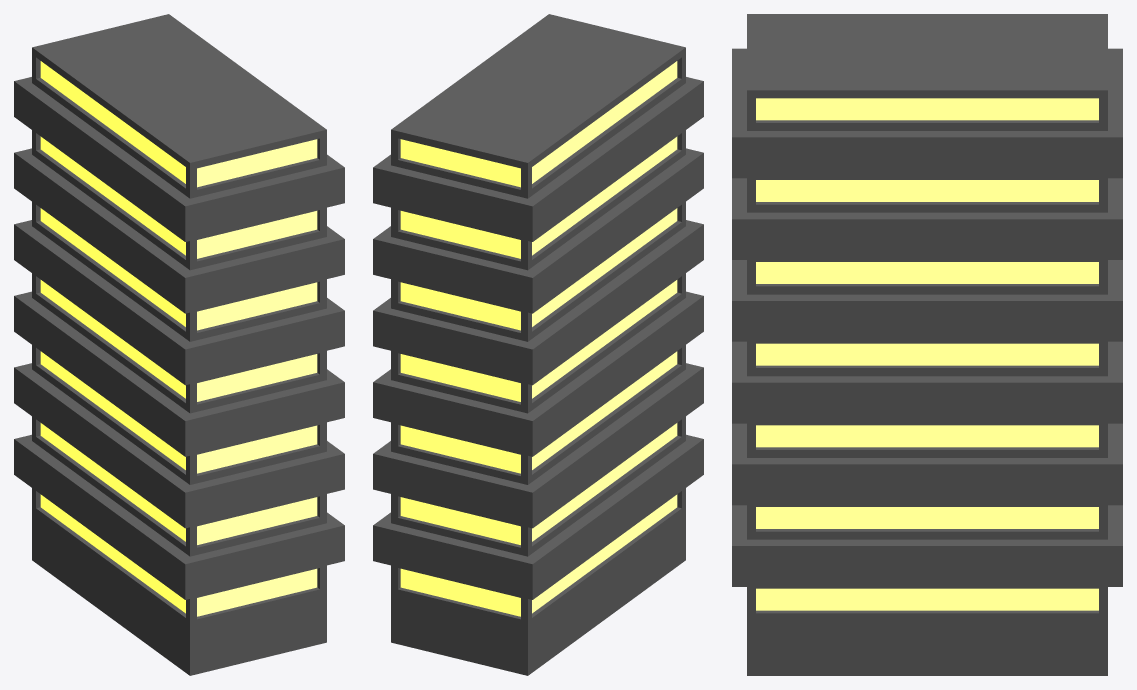
The model's file is heaterGameReady.fbx.
3 views of the same model, side by side, from view 1: azimuth 30°, elevation 25°; view 2: azimuth 150°, elevation 25°; view 3: azimuth 270°, elevation 25° (orthographic). The views are drawn at different scales.
Visible parts, largest first — view 1: Cube; view 2: Cube; view 3: Cube.
Part boxes in pixels (x1,y1,x2,y2): Cube: (14, 14, 344, 675); Cube: (373, 14, 703, 675); Cube: (732, 14, 1122, 675).
Size of the model in its own units: 350 by 1075 by 650.
